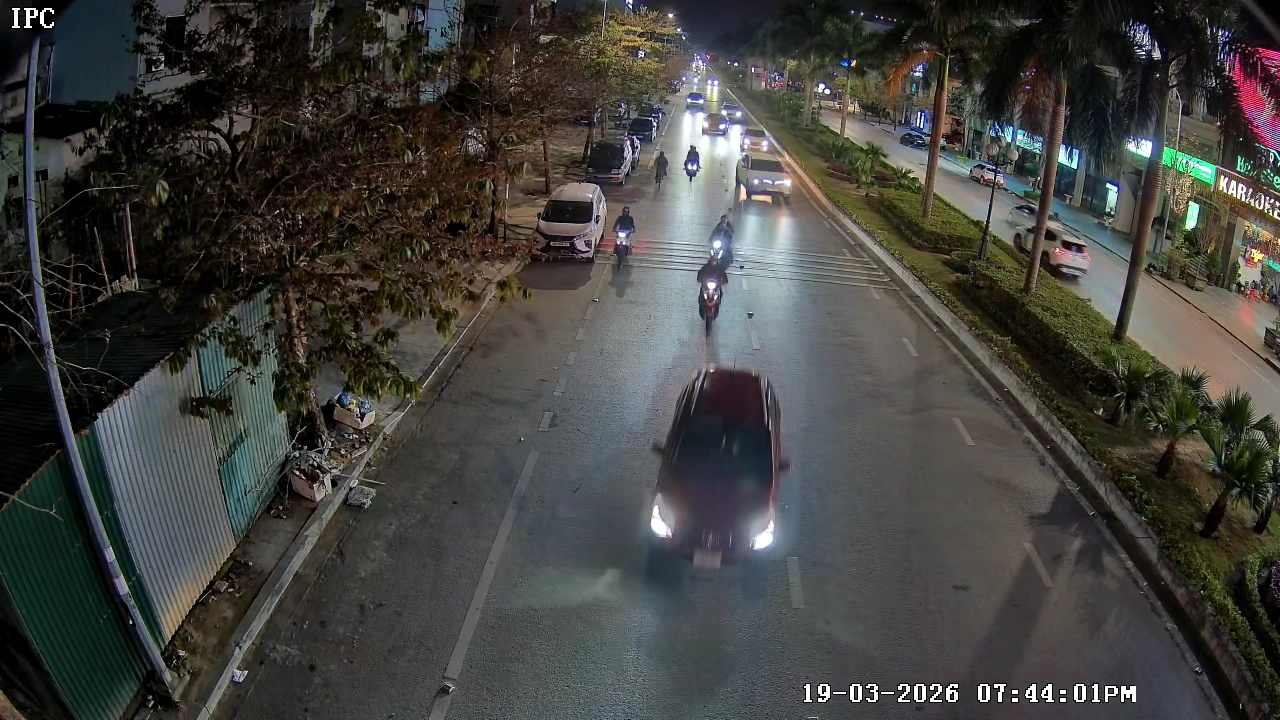car: (641, 362, 798, 581), (533, 180, 607, 264), (736, 147, 794, 208), (583, 130, 641, 187), (699, 107, 729, 139), (739, 124, 766, 158), (685, 89, 707, 112)
motorbike: (694, 246, 730, 333), (611, 204, 638, 269), (707, 211, 736, 268), (683, 141, 702, 179)
